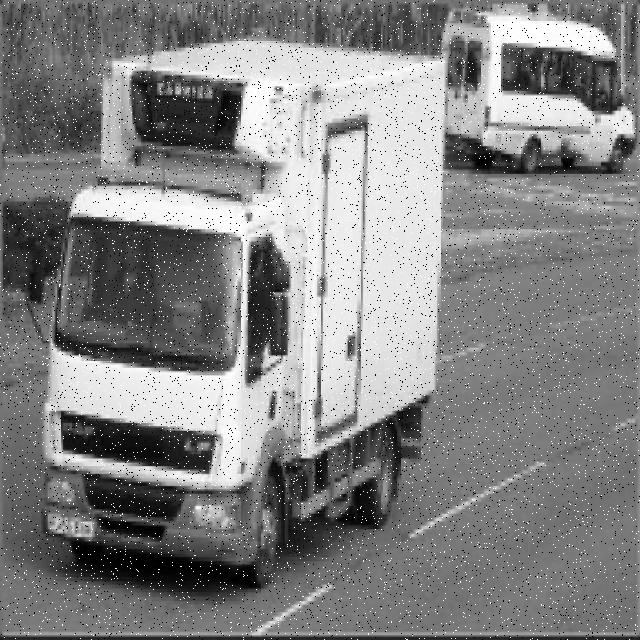Box Truck: (25, 41, 445, 589)
